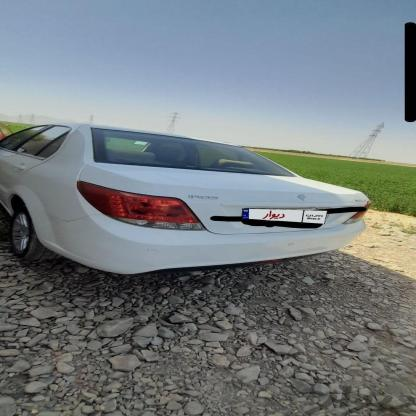Car: (0, 125, 371, 284)
